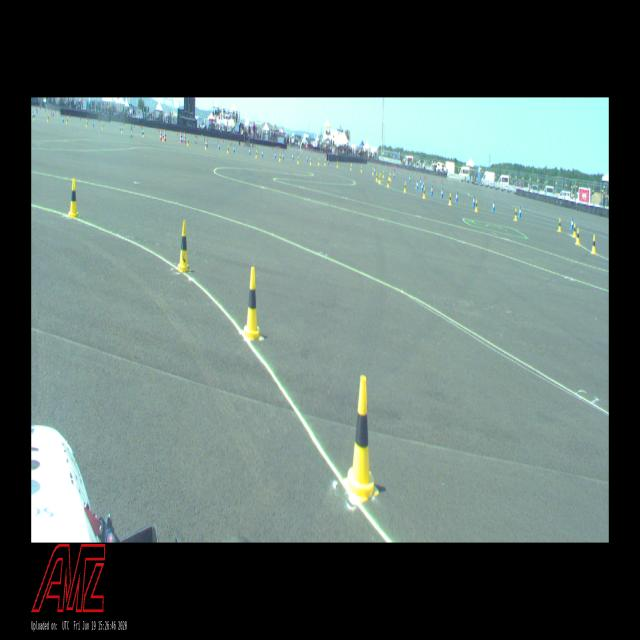blue_cone: (570, 217, 573, 230), (492, 201, 495, 212), (519, 206, 521, 217), (408, 176, 411, 183), (456, 191, 458, 201), (431, 185, 433, 195), (473, 196, 475, 206), (416, 180, 418, 189), (441, 188, 443, 197), (421, 184, 423, 192), (422, 180, 424, 188), (92, 120, 94, 128), (32, 111, 34, 119), (392, 172, 394, 179), (327, 158, 329, 165), (182, 136, 184, 143), (218, 144, 220, 150), (233, 146, 235, 152), (292, 154, 294, 160), (306, 156, 308, 162), (282, 153, 284, 159), (274, 152, 276, 158), (62, 116, 64, 122), (142, 128, 143, 136), (207, 140, 208, 148), (420, 178, 421, 185), (262, 150, 263, 157), (249, 148, 250, 154), (120, 125, 121, 131), (374, 168, 375, 173)
large_orange_cone: (164, 129, 167, 142), (160, 129, 162, 141), (184, 132, 186, 143), (180, 132, 182, 142)
yellow_cone: (344, 376, 378, 503), (243, 267, 261, 338), (177, 220, 189, 271), (68, 178, 78, 219), (592, 234, 596, 254), (576, 228, 580, 244), (572, 222, 576, 236), (448, 192, 452, 205), (514, 208, 518, 220), (558, 218, 561, 232), (475, 200, 478, 212), (255, 150, 258, 158), (379, 172, 381, 184), (376, 172, 378, 182), (423, 188, 425, 198), (404, 182, 406, 192), (387, 177, 389, 186), (66, 116, 68, 125), (318, 158, 320, 166), (372, 168, 374, 176), (187, 138, 189, 146), (47, 114, 49, 122), (389, 173, 391, 181), (310, 158, 312, 165), (360, 165, 362, 172), (297, 156, 299, 163), (324, 160, 326, 167), (389, 173, 391, 180), (279, 154, 281, 161), (336, 161, 338, 168), (350, 163, 352, 170), (205, 142, 207, 149), (102, 123, 104, 130), (86, 120, 88, 126), (228, 145, 229, 153), (163, 133, 164, 141), (383, 171, 384, 178), (34, 113, 35, 120), (143, 130, 144, 137), (122, 126, 123, 133)
